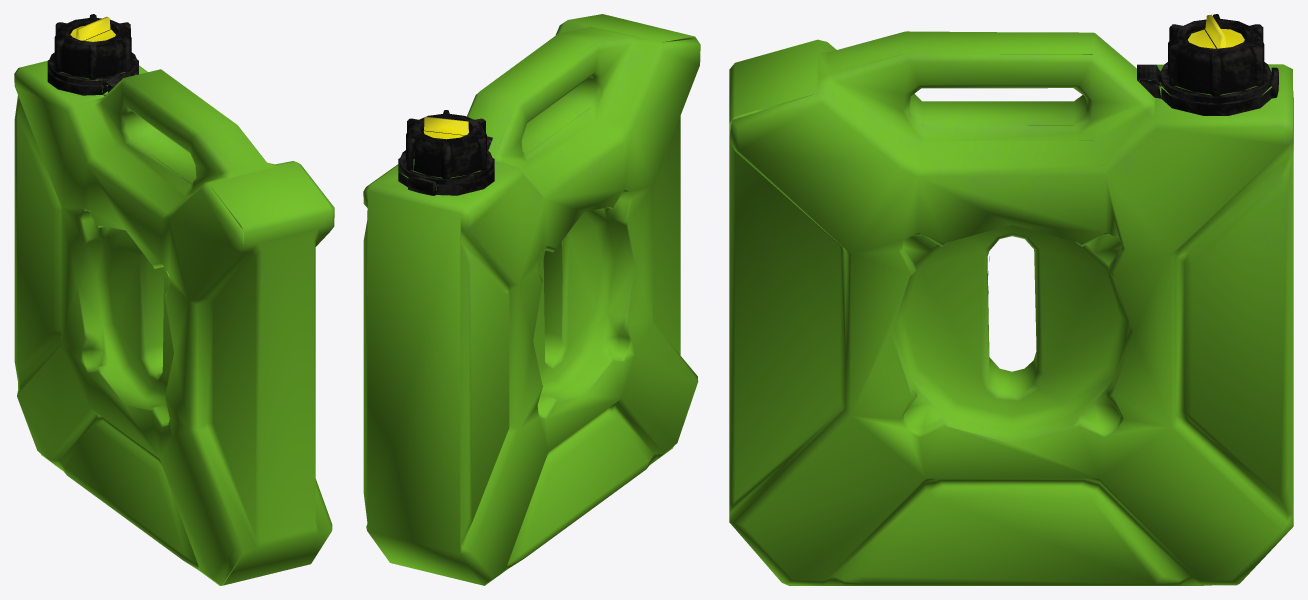
Rendered from Green_Bottles.fbx.
The picture shows the model from 3 angles, left to right: view 1: azimuth 30°, elevation 25°; view 2: azimuth 150°, elevation 25°; view 3: azimuth 270°, elevation 25°; orthographic projection. The views are drawn at different scales.
Visible parts, largest first — view 1: Green_fuel_bottles; view 2: Green_fuel_bottles; view 3: Green_fuel_bottles.
Part boxes in pixels (x1,y1,x2,y2): Green_fuel_bottles: [14, 14, 334, 585]; Green_fuel_bottles: [363, 14, 700, 585]; Green_fuel_bottles: [729, 14, 1293, 585].
Size of the model in its own units: 38.13 by 155 by 149.
1 material, 1 textured.
